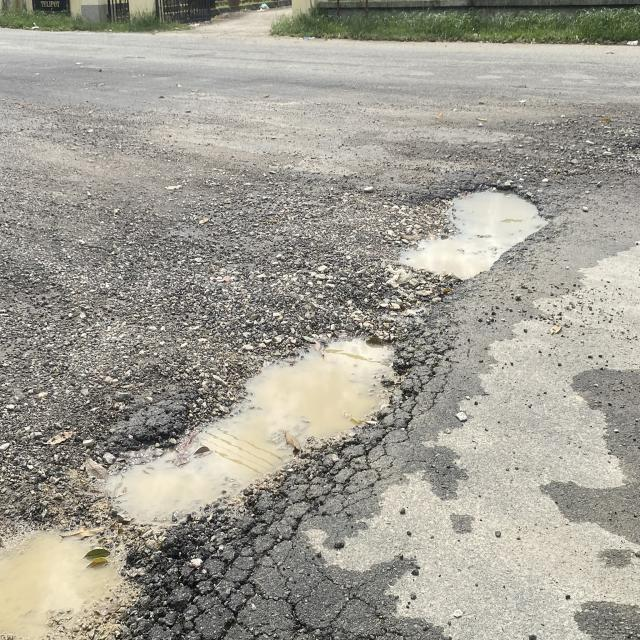Pothole: (53, 329, 475, 605), (394, 164, 579, 356)
